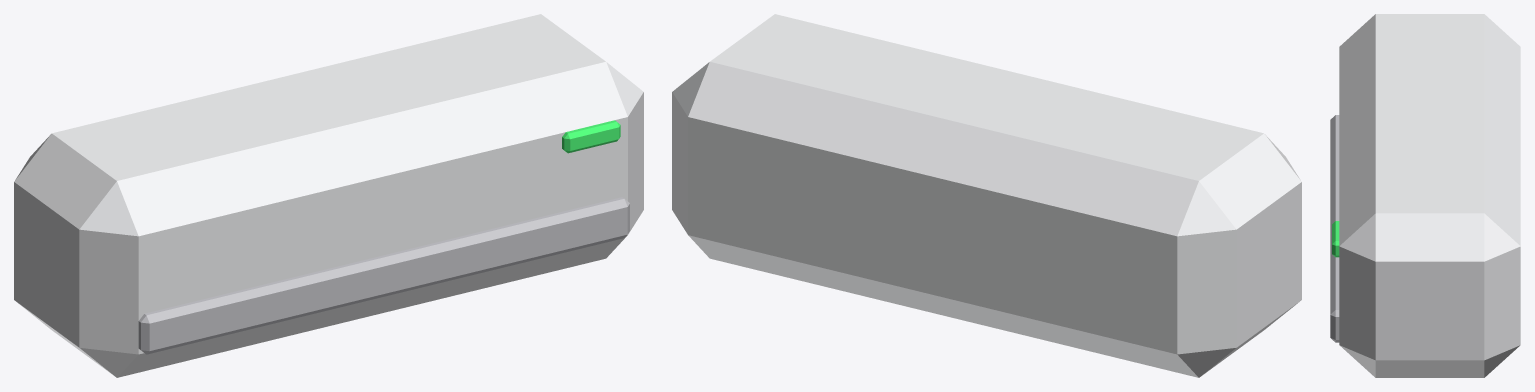
Rendered from AirConditioner.fbx.
The picture shows the model from 3 angles, left to right: view 1: azimuth 30°, elevation 25°; view 2: azimuth 150°, elevation 25°; view 3: azimuth 270°, elevation 25°; orthographic projection. The views are drawn at different scales.
Visible parts, largest first — view 1: AirConditioner; view 2: AirConditioner; view 3: AirConditioner.
Part boxes in pixels (box(x1,y1,x2,y2)): AirConditioner: box(14, 14, 643, 377); AirConditioner: box(672, 14, 1301, 377); AirConditioner: box(1330, 14, 1520, 377).
Bounding box in the file's own units: 3 × 1 × 1.05.
1 material, 1 textured.
